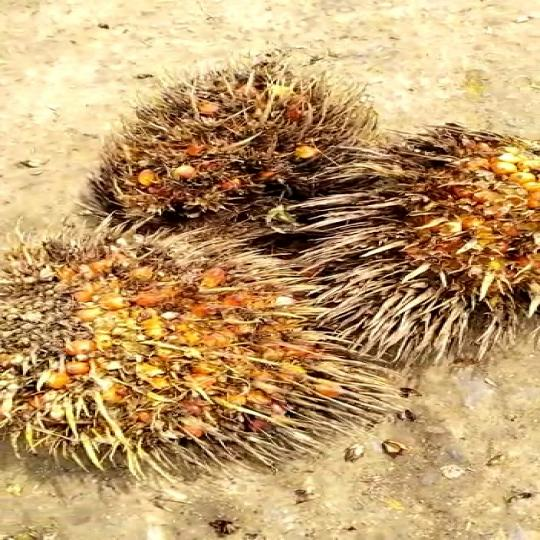terlalu masak: (0, 242, 379, 442), (279, 130, 540, 358), (101, 69, 340, 234)
